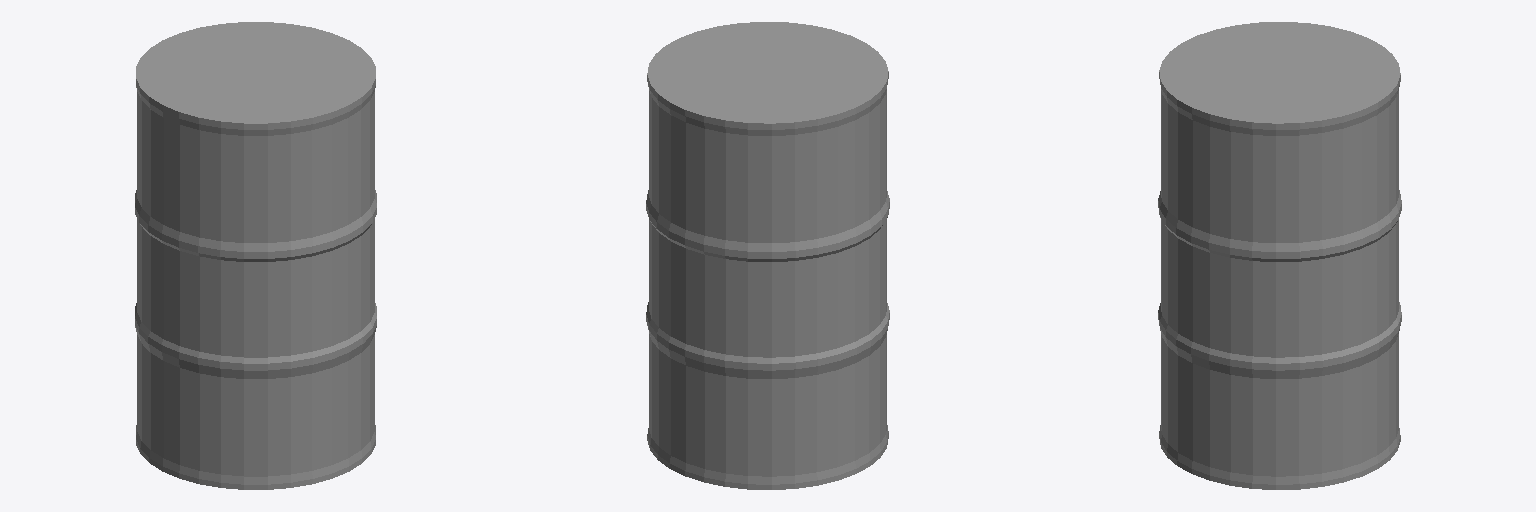
File: Oildrum.obj
3 renders of one model, left to right at view 1: azimuth 30°, elevation 25°; view 2: azimuth 150°, elevation 25°; view 3: azimuth 270°, elevation 25°, orthographic.
Parts seen in each view (by area): view 1: Oildrum-ref_Cylinder.001; view 2: Oildrum-ref_Cylinder.001; view 3: Oildrum-ref_Cylinder.001.
Part boxes in pixels (bbox=[...]): Oildrum-ref_Cylinder.001: bbox=[135, 22, 376, 489]; Oildrum-ref_Cylinder.001: bbox=[646, 22, 889, 489]; Oildrum-ref_Cylinder.001: bbox=[1158, 22, 1401, 489].
Bounding box in the file's own units: 0.6966 × 1.16 × 0.6966.